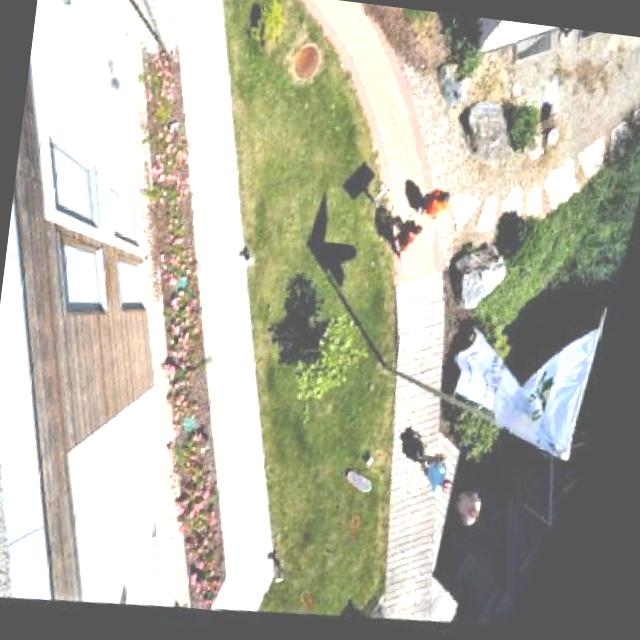Person: (417, 445, 478, 513), (389, 214, 434, 274), (418, 188, 466, 228)
